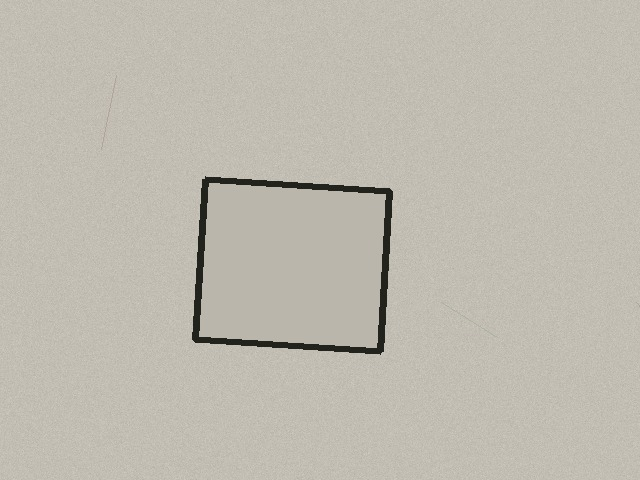parking_area: (195, 179, 389, 351)
